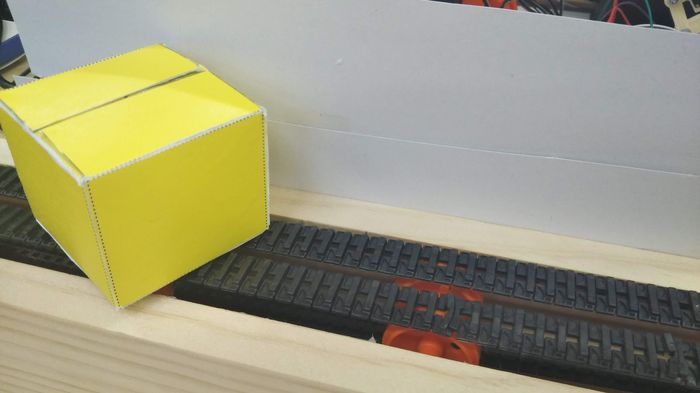box4: (0, 41, 273, 313)
